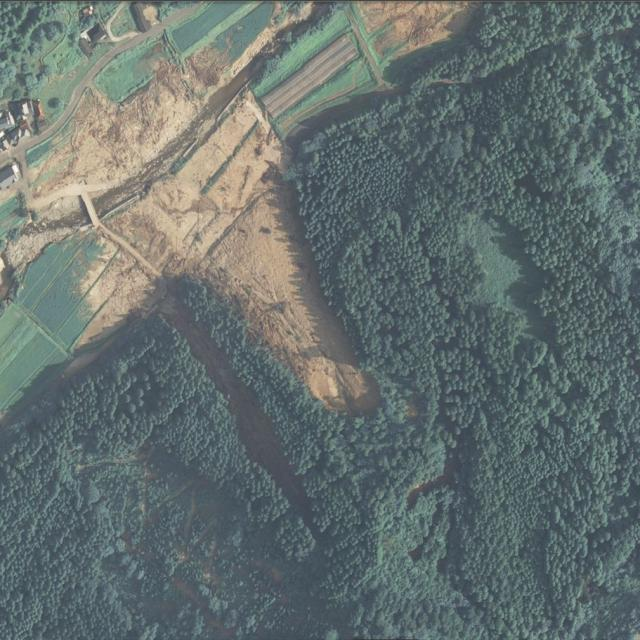landslide: (52, 61, 380, 413), (349, 1, 471, 71)
